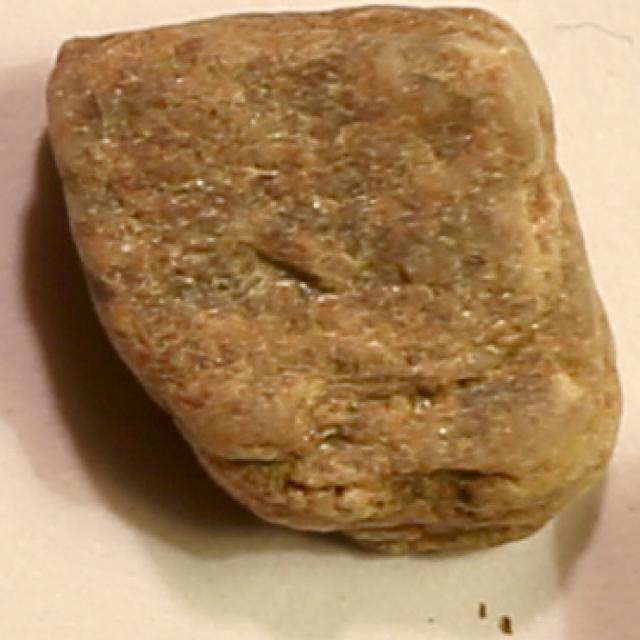stone: (39, 7, 624, 569)
